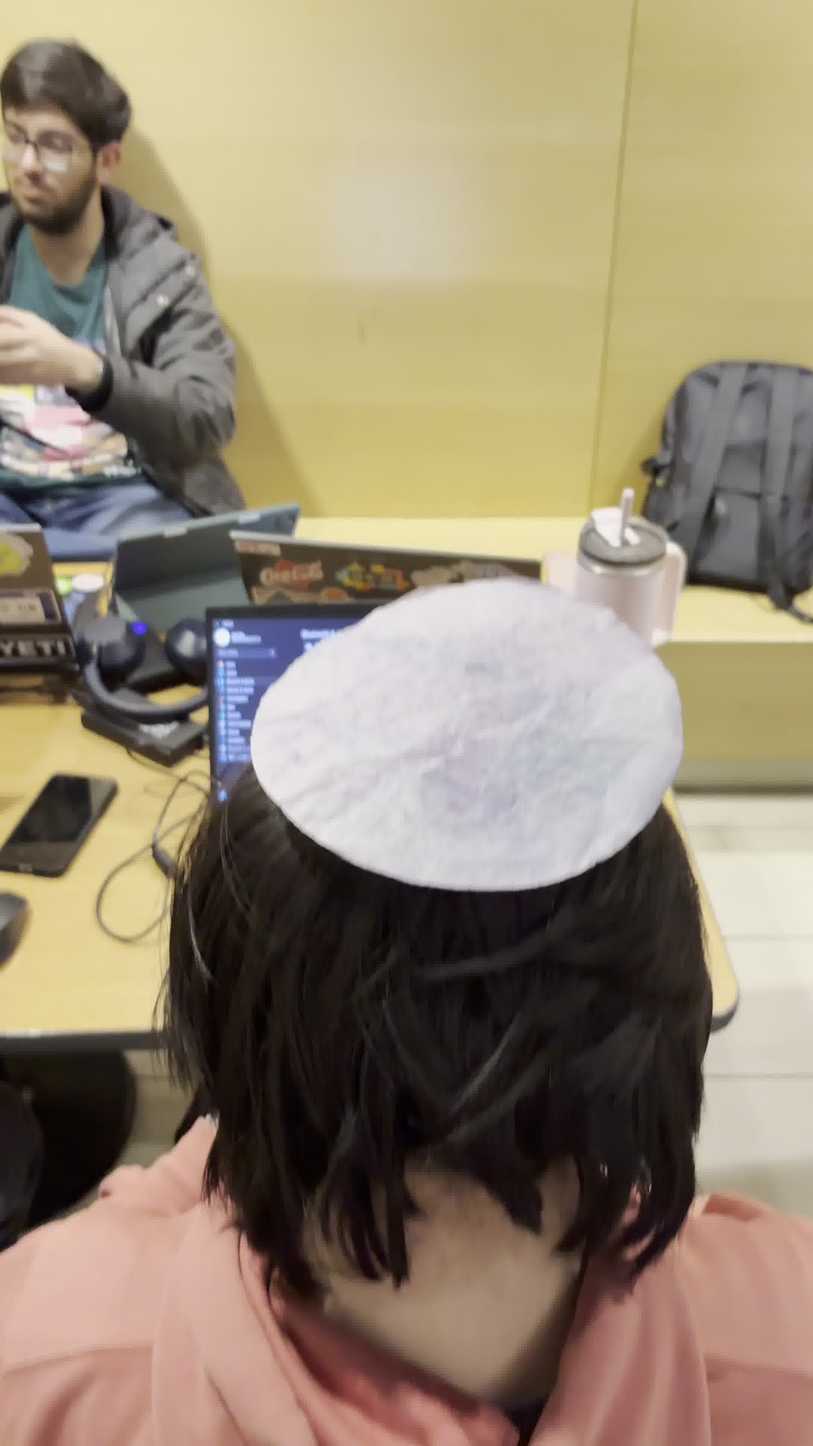Target: (250, 574, 684, 891)
